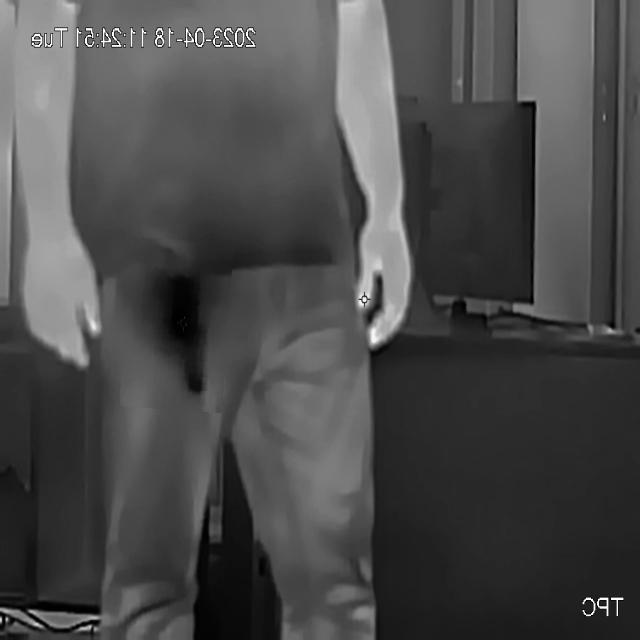Weapon: (122, 238, 231, 412)
